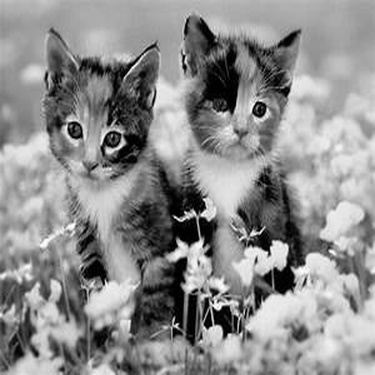cat: (26, 29, 178, 351), (172, 12, 311, 340)
